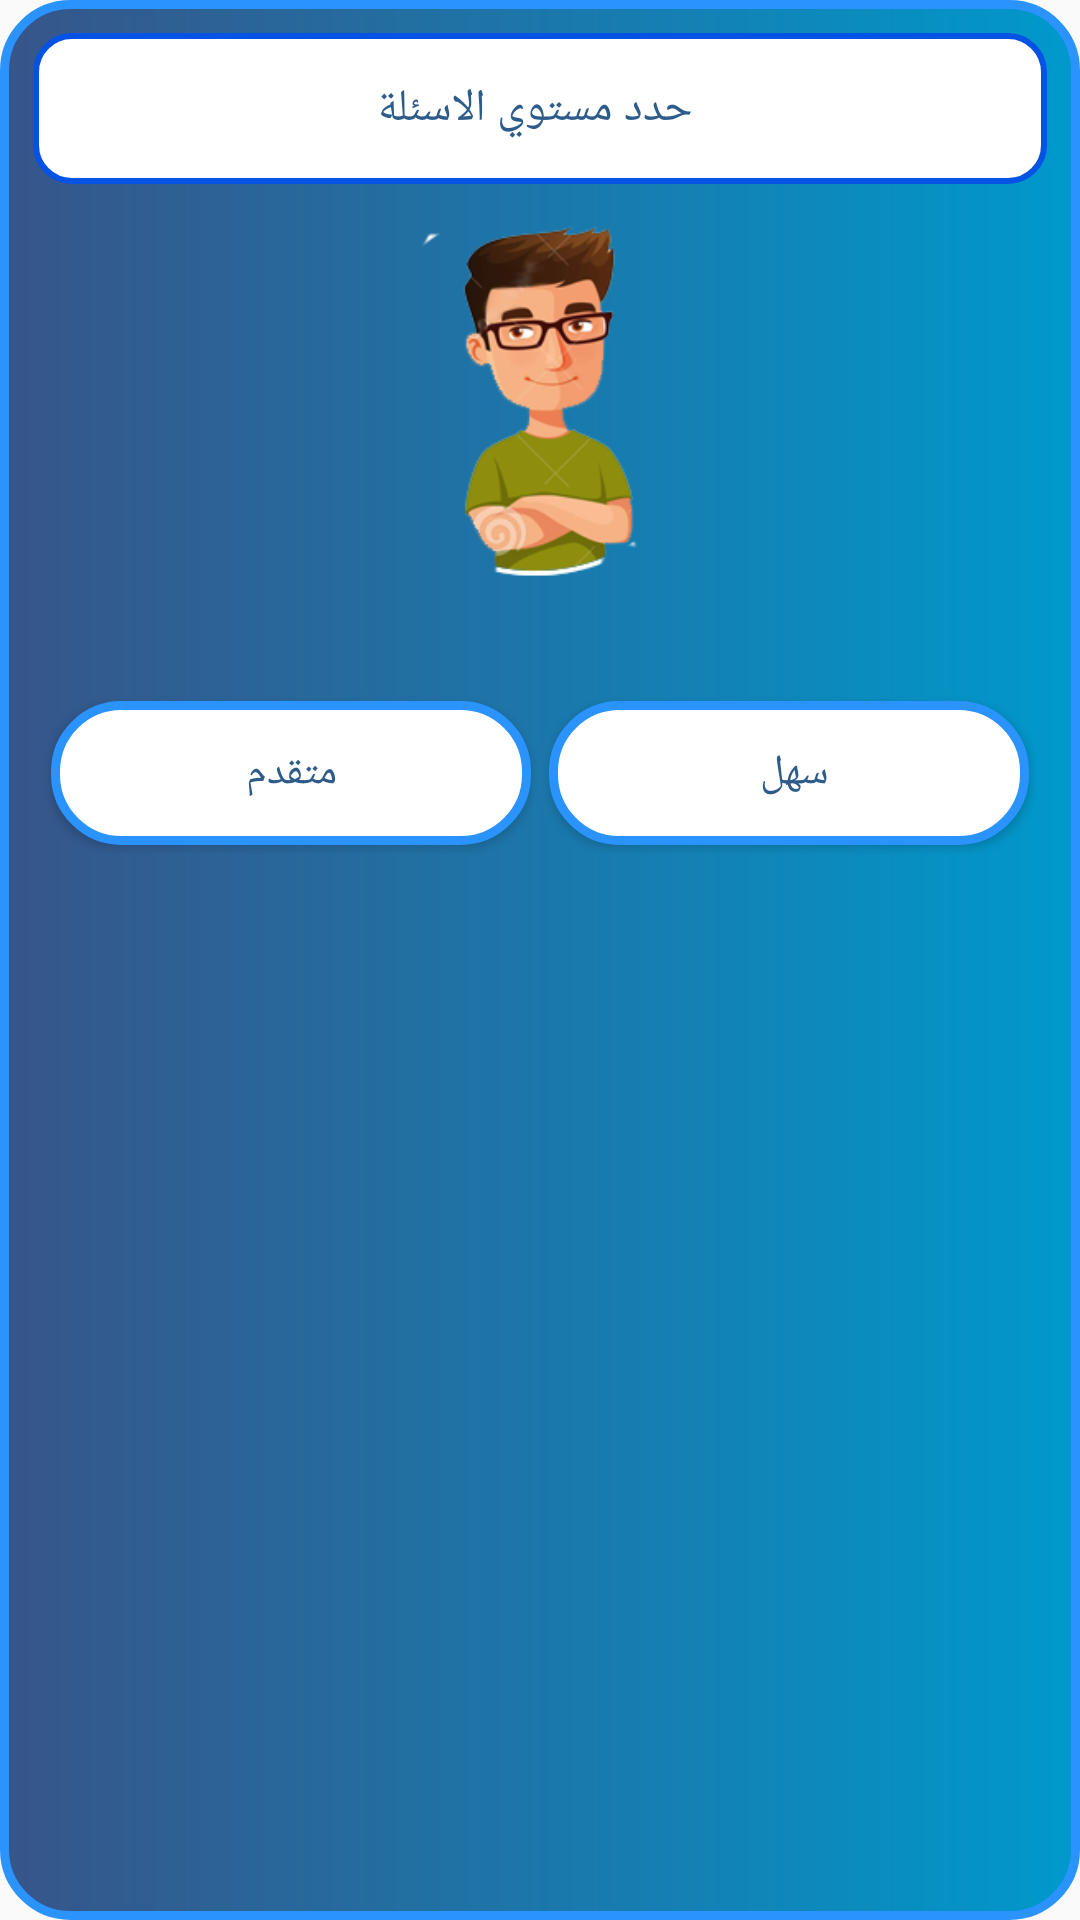

Icon click points for this 1080×1920 phone screenshot, format point (x, y):
man: point (529, 401)
